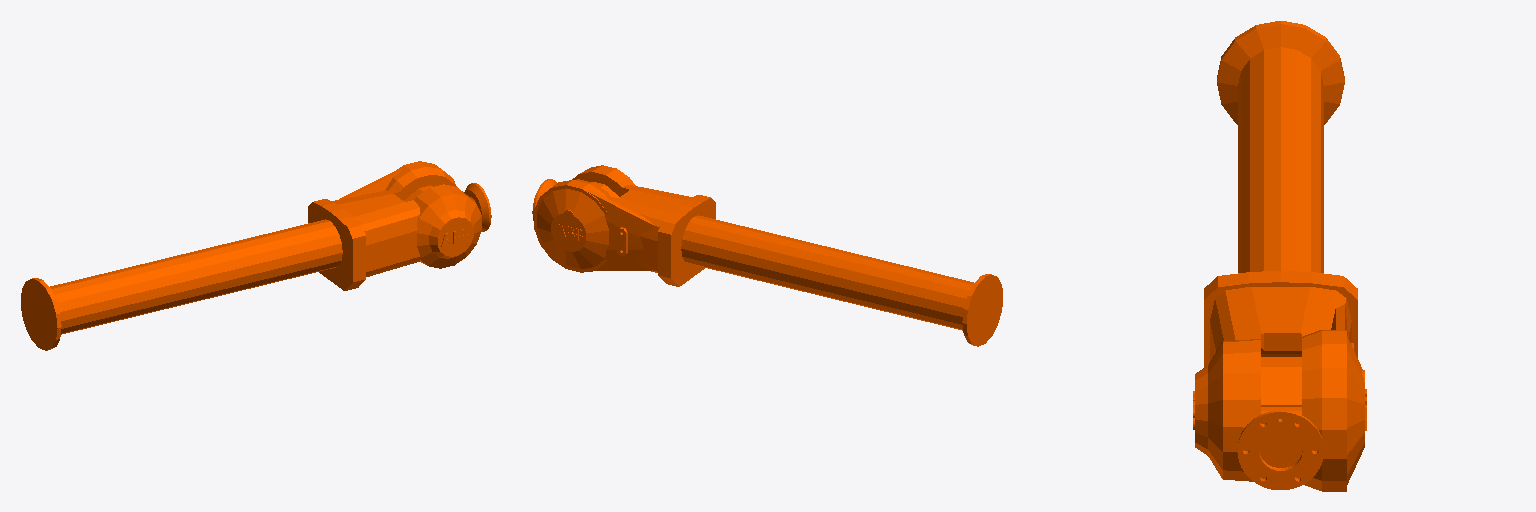
robot.urdf — abb_irb4400l30:
<?xml version="1.0" ?>
<!-- =================================================================================== -->
<!-- |    This document was autogenerated by xacro from irb4400l30.xacro               | -->
<!-- |    EDITING THIS FILE BY HAND IS NOT RECOMMENDED                                 | -->
<!-- =================================================================================== -->
<robot name="abb_irb4400l30" xmlns:xacro="http://ros.org/wiki/xacro">
  <link name="base_link">
    <visual>
      <origin rpy="0 0 0" xyz="0 0 0"/>
      <geometry>
        <mesh filename="package://abb_irb4400_support/meshes/irb4400l30/visual/base_link.stl"/>
      </geometry>
      <material name="abb_orange">
        <color rgba="1 0.43 0 1"/>
      </material>
    </visual>
    <collision>
      <geometry>
        <mesh filename="package://abb_irb4400_support/meshes/irb4400l30/collision/base_link.stl"/>
      </geometry>
      <material name="yellow">
        <color rgba="0 1 1 1"/>
      </material>
    </collision>
  </link>
  <link name="link_1">
    <visual>
      <origin rpy="0 0 0" xyz="0 0 0"/>
      <geometry>
        <mesh filename="package://abb_irb4400_support/meshes/irb4400l30/visual/link_1.stl"/>
      </geometry>
      <material name="abb_orange"/>
    </visual>
    <collision>
      <origin rpy="0 0 0" xyz="0 0 0"/>
      <geometry>
        <mesh filename="package://abb_irb4400_support/meshes/irb4400l30/collision/link_1.stl"/>
      </geometry>
      <material name="yellow"/>
    </collision>
  </link>
  <link name="link_2">
    <visual>
      <origin rpy="0 0 0" xyz="0 0 0"/>
      <geometry>
        <mesh filename="package://abb_irb4400_support/meshes/irb4400l30/visual/link_2.stl"/>
      </geometry>
      <material name="abb_orange"/>
    </visual>
    <collision>
      <origin rpy="0 0 0" xyz="0 0 0"/>
      <geometry>
        <mesh filename="package://abb_irb4400_support/meshes/irb4400l30/collision/link_2.stl"/>
      </geometry>
      <material name="yellow"/>
    </collision>
  </link>
  <link name="link_3">
    <visual>
      <origin rpy="0 0 0" xyz="0 0 0"/>
      <geometry>
        <mesh filename="package://abb_irb4400_support/meshes/irb4400l30/visual/link_3.stl"/>
      </geometry>
      <material name="abb_orange"/>
    </visual>
    <collision>
      <origin rpy="0 0 0" xyz="0 0 0"/>
      <geometry>
        <mesh filename="package://abb_irb4400_support/meshes/irb4400l30/collision/link_3.stl"/>
      </geometry>
      <material name="yellow"/>
    </collision>
  </link>
  <link name="link_4">
    <visual>
      <origin rpy="0 0 0" xyz="0 0 0"/>
      <geometry>
        <mesh filename="package://abb_irb4400_support/meshes/irb4400l30/visual/link_4.stl"/>
      </geometry>
      <material name="abb_orange"/>
    </visual>
    <collision>
      <origin rpy="0 0 0" xyz="0 0 0"/>
      <geometry>
        <mesh filename="package://abb_irb4400_support/meshes/irb4400l30/collision/link_4.stl"/>
      </geometry>
      <material name="yellow"/>
    </collision>
  </link>
  <link name="link_5">
    <visual>
      <origin rpy="0 0 0" xyz="0 0 0"/>
      <geometry>
        <mesh filename="package://abb_irb4400_support/meshes/irb4400l30/visual/link_5.stl"/>
      </geometry>
      <material name="abb_orange"/>
    </visual>
    <collision>
      <origin rpy="0 0 0" xyz="0 0 0"/>
      <geometry>
        <mesh filename="package://abb_irb4400_support/meshes/irb4400l30/collision/link_5.stl"/>
      </geometry>
      <material name="yellow"/>
    </collision>
  </link>
  <link name="link_6">
    <visual>
      <origin rpy="0 0 0" xyz="0 0 0"/>
      <geometry>
        <mesh filename="package://abb_irb4400_support/meshes/irb4400l30/visual/link_6.stl"/>
      </geometry>
      <material name="abb_orange"/>
    </visual>
    <collision>
      <origin rpy="0 0 0" xyz="0 0 0"/>
      <geometry>
        <mesh filename="package://abb_irb4400_support/meshes/irb4400l30/collision/link_6.stl"/>
      </geometry>
      <material name="yellow"/>
    </collision>
  </link>
  <link name="tool0"/>
  <joint name="joint_1" type="revolute">
    <origin rpy="0 0 0" xyz="0 0 0"/>
    <parent link="base_link"/>
    <child link="link_1"/>
    <axis xyz="0 0 1"/>
    <limit effort="0" lower="-2.87" upper="2.87" velocity="1.00"/>
    <!--change from default-->
  </joint>
  <joint name="joint_2" type="revolute">
    <origin rpy="0 0 0" xyz="0.2 0 0.68"/>
    <parent link="link_1"/>
    <child link="link_2"/>
    <axis xyz="0 1 0"/>
    <limit effort="0" lower="-1.7453" upper="1.9199" velocity="1.00"/>
    <!--check limits and velocity-->
  </joint>
  <joint name="joint_3" type="revolute">
    <origin rpy="0 0 0" xyz="0 0 0.89"/>
    <parent link="link_2"/>
    <child link="link_3"/>
    <axis xyz="0 1 0"/>
    <limit effort="0" lower="-1.0472" upper="1.1345" velocity="2.618"/>
    <!--check limits and velocity-->
  </joint>
  <joint name="joint_4" type="revolute">
    <origin rpy="0 0 0" xyz="1.3809 0 0.15"/>
    <parent link="link_3"/>
    <child link="link_4"/>
    <axis xyz="1 0 0"/>
    <limit effort="0" lower="-3.49" upper="3.49" velocity="3.14"/>
    <!--check this-->
  </joint>
  <joint name="joint_5" type="revolute">
    <origin rpy="0 0 0" xyz="0 0 0"/>
    <parent link="link_4"/>
    <child link="link_5"/>
    <axis xyz="0 1 0"/>
    <limit effort="0" lower="-2.094" upper="2.094" velocity="3.14"/>
    <!--check this-->
  </joint>
  <joint name="joint_6" type="revolute">
    <origin rpy="0 0 0" xyz="0 0 0"/>
    <parent link="link_5"/>
    <child link="link_6"/>
    <axis xyz="1 0 0"/>
    <limit effort="0" lower="-6.98" upper="6.98" velocity="3.14"/>
    <!--check this-->
  </joint>
  <joint name="joint_6-tool0" type="fixed">
    <parent link="link_6"/>
    <child link="tool0"/>
    <origin rpy="0 0 0" xyz="0.1391 0 0"/>
  </joint>
</robot>

--- What the picture shows (computed from the rendered views, not written in the file) ---
3 views of the same robot in one strip: view 1: azimuth 30°, elevation 25°; view 2: azimuth 150°, elevation 25°; view 3: azimuth 270°, elevation 25° (orthographic).
Model abb_irb4400l30 with 8 links and 7 joints (6 revolute, 1 fixed), rooted at base_link, posed every joint at zero.
Visible links, largest first — view 1: link_4, link_6; view 2: link_4; view 3: link_4, link_6, link_5.
Link boxes in pixels (<box>): link_4: <box>21,161,481,350</box>; link_6: <box>464,183,491,231</box>; link_4: <box>534,165,1002,346</box>; link_4: <box>1193,21,1366,491</box>; link_6: <box>1238,410,1323,489</box>; link_5: <box>1261,357,1301,414</box>.
Bounding box of the posed robot: 1.27 × 0.2505 × 0.232 m (x, y, z).
Meshes: 7 distinct files referenced, 3 mesh visuals loaded (3 binary STL); not drawn: 4 (reference not matched to a file when rendering).